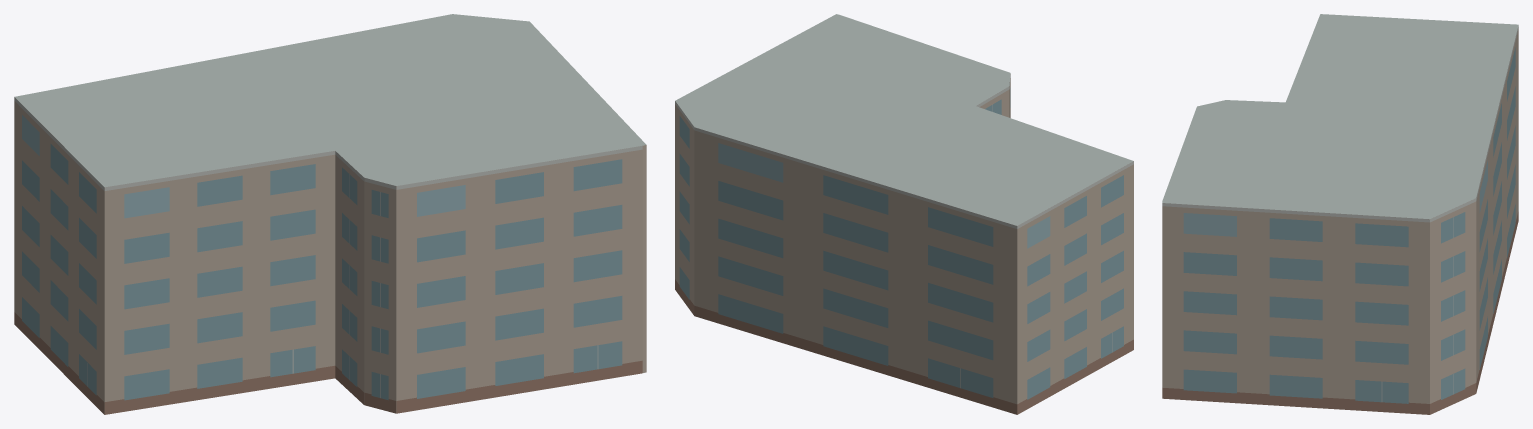
The model's file is survey-upis-32514150.glb.
3 views of the same model, side by side, from view 1: azimuth 30°, elevation 25°; view 2: azimuth 150°, elevation 25°; view 3: azimuth 270°, elevation 25° (orthographic). The views are drawn at different scales.
Visible parts, largest first — view 1: survey-upis-32514150.tmp; view 2: survey-upis-32514150.tmp; view 3: survey-upis-32514150.tmp.
Boxes of the visible parts, left/top/right/bottom form: survey-upis-32514150.tmp: left=14, top=14, right=646, bottom=414; survey-upis-32514150.tmp: left=675, top=14, right=1133, bottom=414; survey-upis-32514150.tmp: left=1162, top=14, right=1518, bottom=414.
Bounding box in the file's own units: 32.61 × 14.5 × 23.95.
